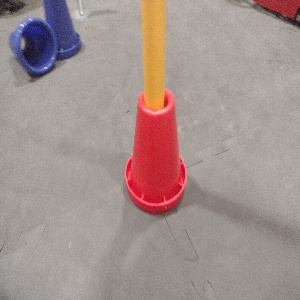Blue_1: (7, 16, 56, 74), (39, 0, 82, 60)
Red_1: (121, 85, 190, 218)
